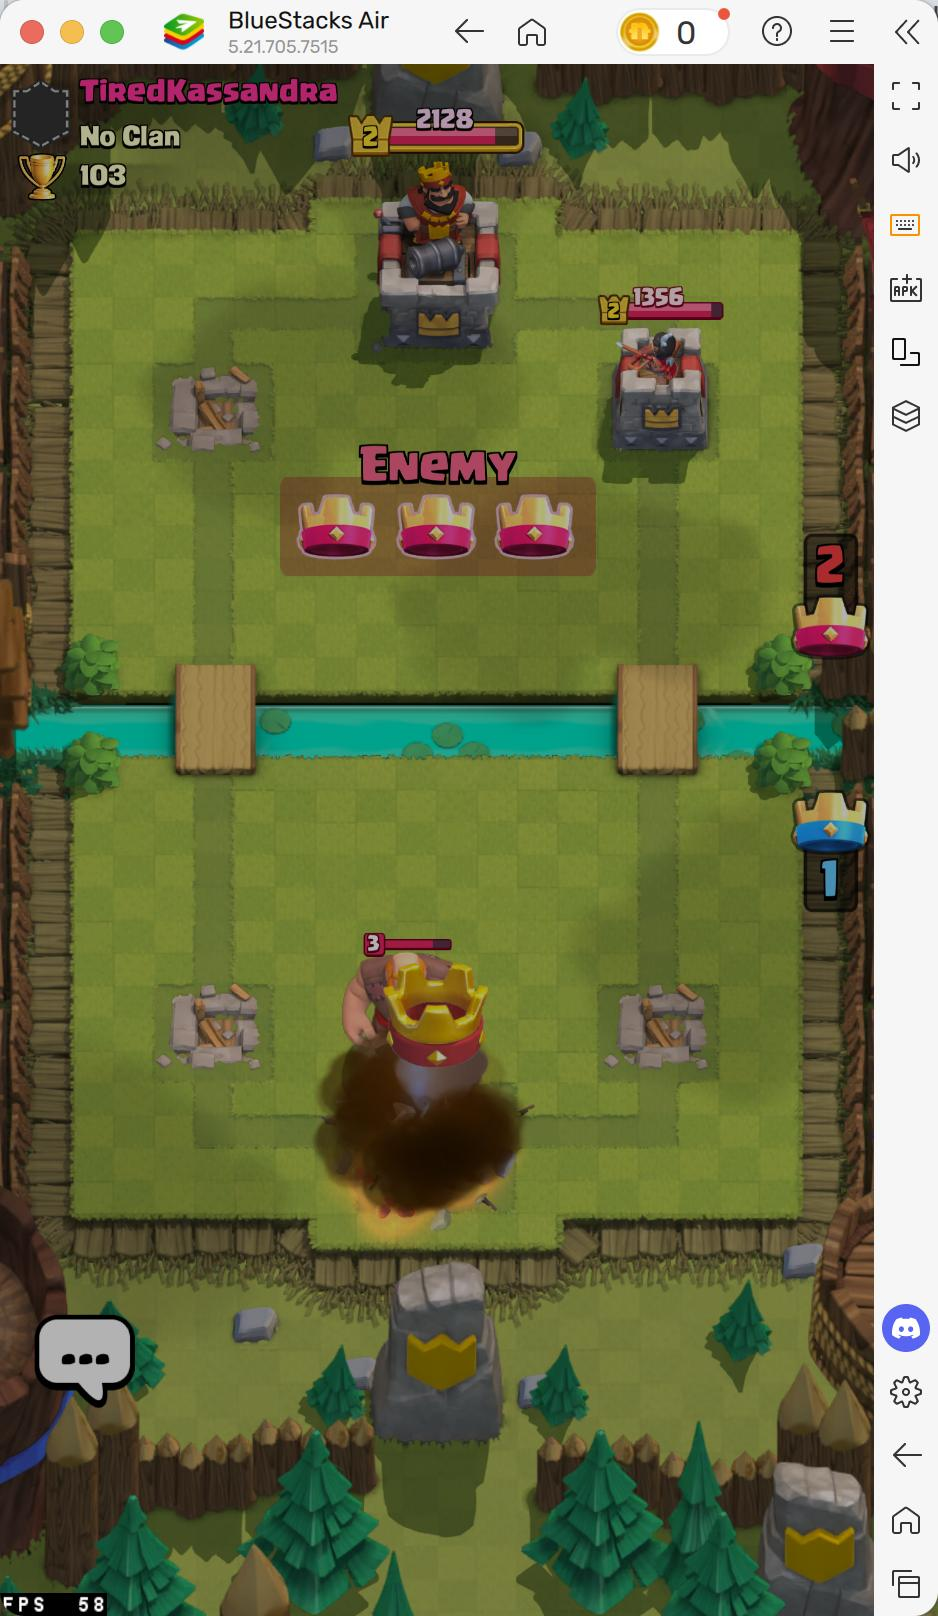1: (431, 106, 442, 131), (632, 285, 642, 308)
2: (438, 105, 458, 132), (414, 106, 432, 132)
3: (641, 283, 657, 309)
5: (653, 286, 670, 308)
7: (668, 285, 686, 308)
Battle: (454, 106, 476, 132)
Enemy Tower: (605, 323, 712, 455)
